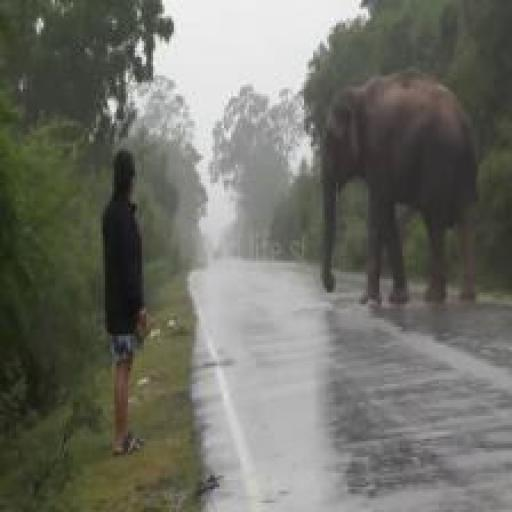Elephant: (315, 53, 487, 328)
